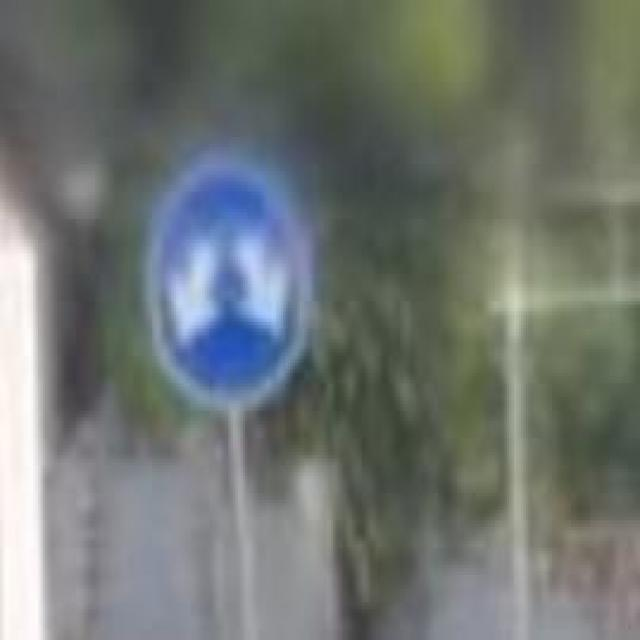traffic sign: (150, 154, 316, 414)
